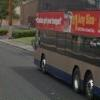Bus: (28, 4, 99, 96)
